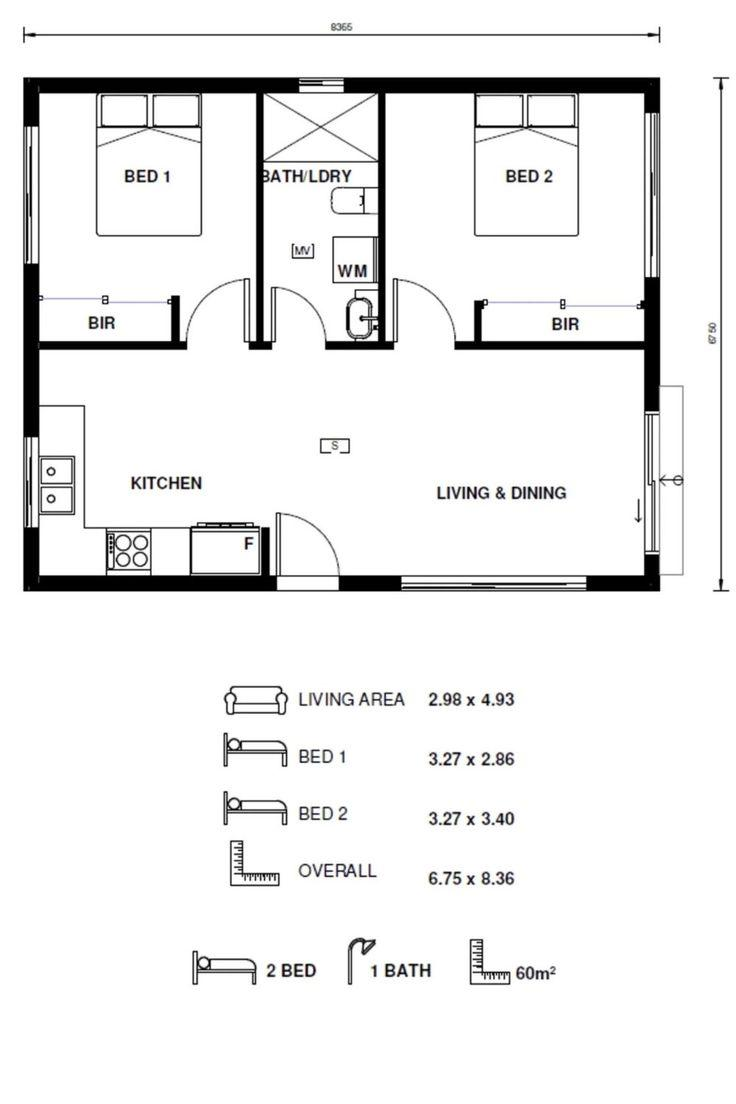wall: (24, 77, 660, 94), (23, 575, 660, 591), (643, 77, 662, 590), (23, 77, 40, 591), (23, 341, 661, 350), (378, 77, 386, 349), (256, 78, 263, 350), (261, 527, 270, 591), (170, 295, 180, 349), (475, 300, 482, 349)
